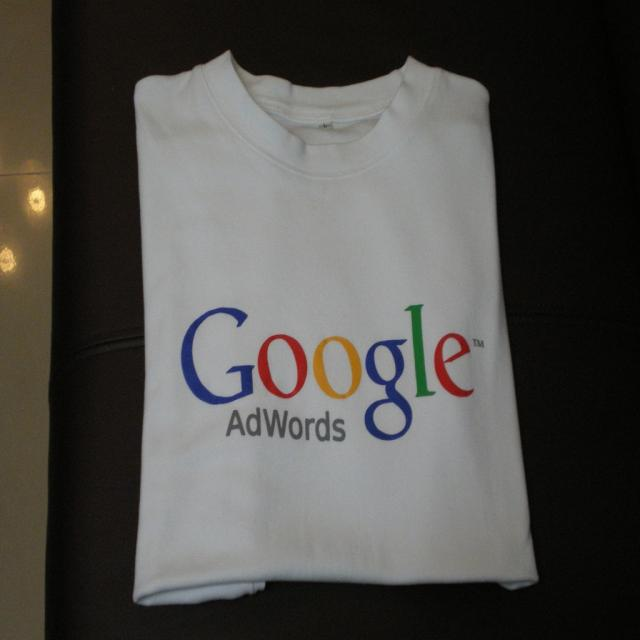google: (179, 298, 479, 444)
